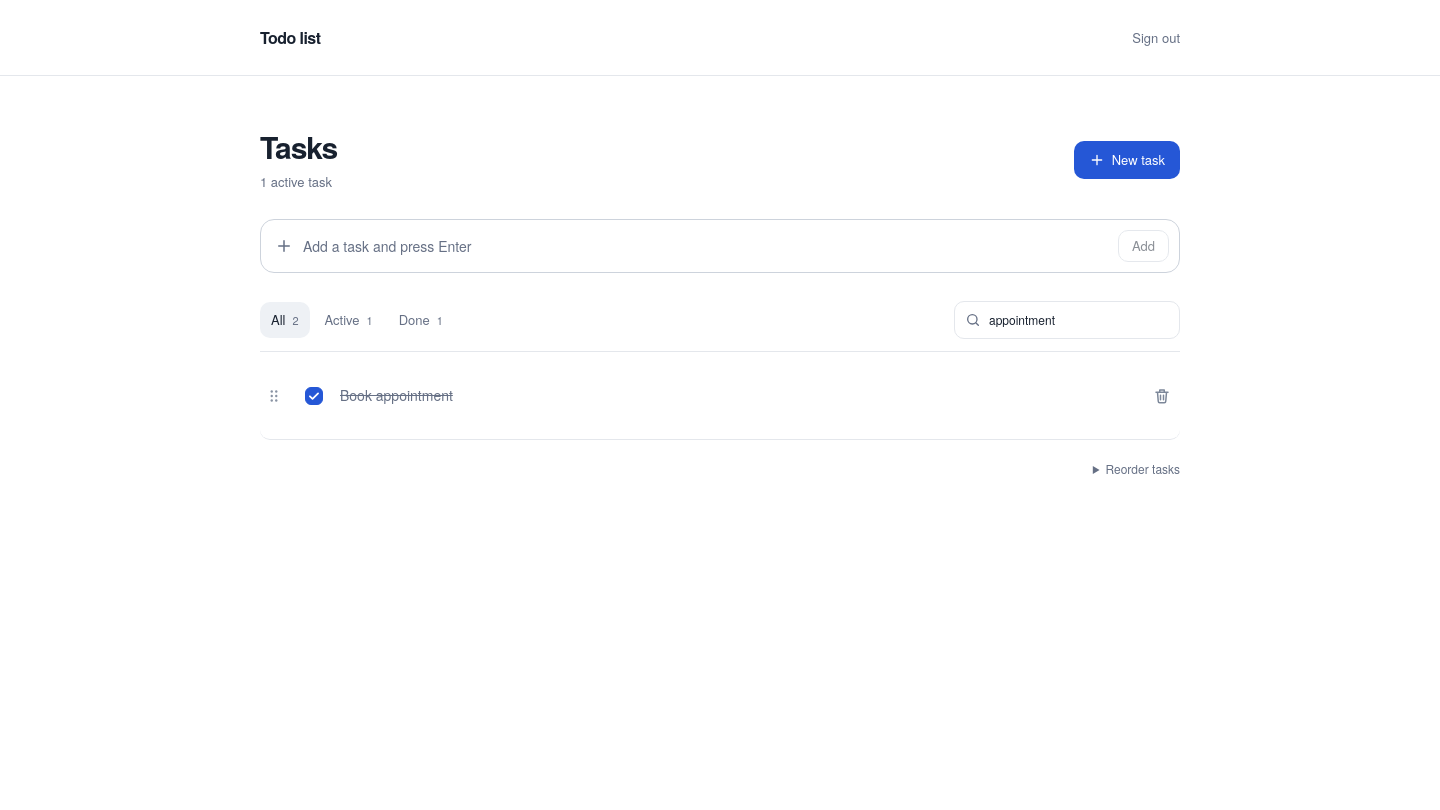
it: task list › clears the search when returning to the full list
Expected: the text "Book appointment" is shown, [340, 385, 453, 405]
Expected: the search field named "Search tasks" holds "appointment", [989, 302, 1169, 338]
Click the link "Todo list": click(290, 38) [260, 26, 320, 50]
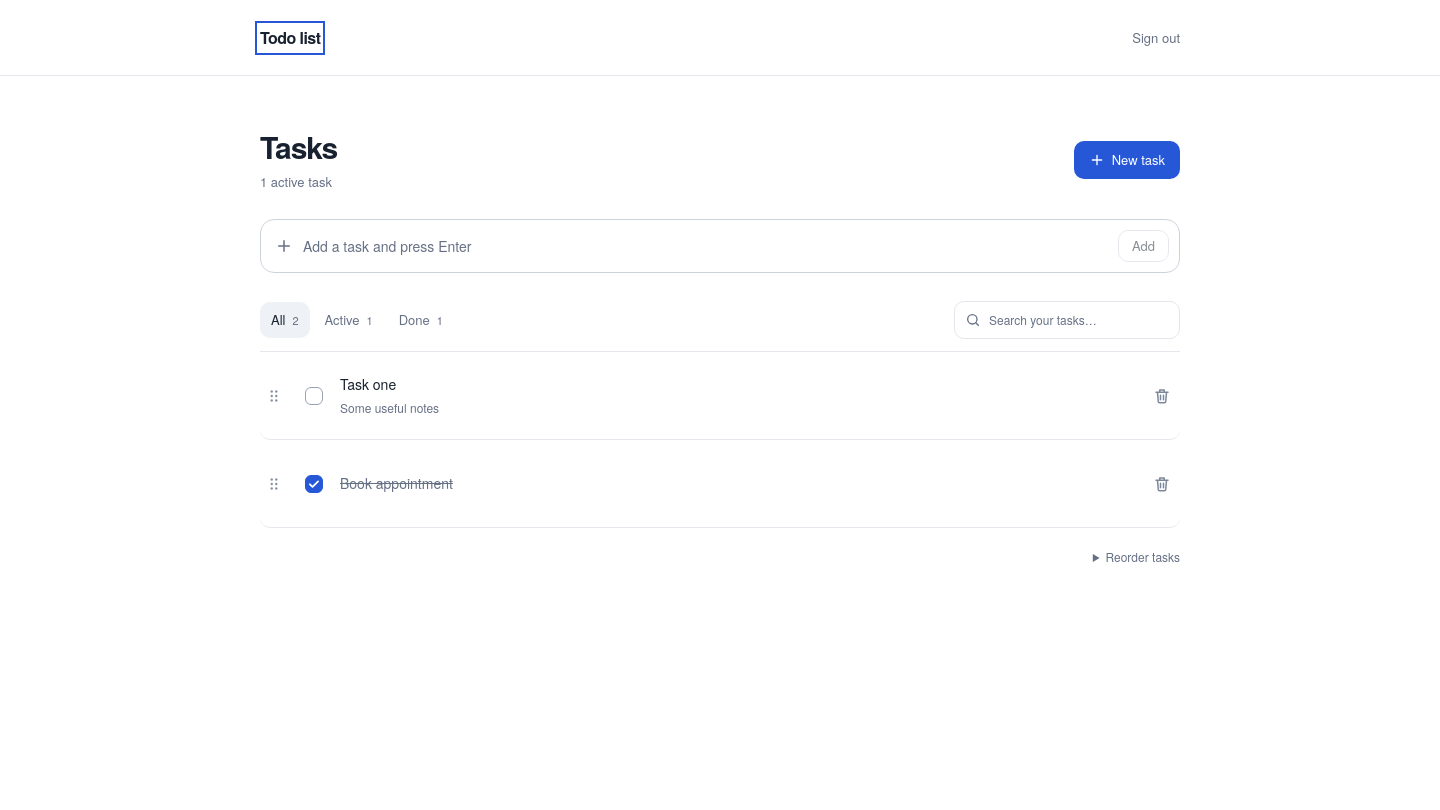
Expected: the search field named "Search tasks" is empty, [989, 302, 1169, 338]
Expected: the text "Task one" is shown, [340, 374, 396, 394]
